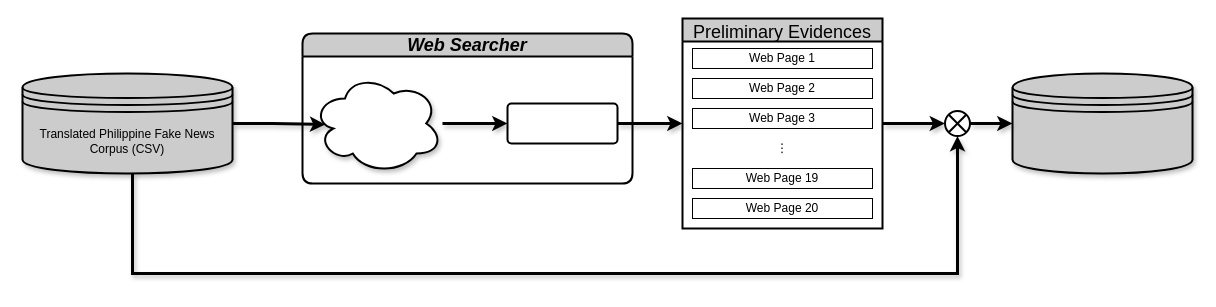
The diagram is 1216 pixels wide and 307 high, and some of its shapes have lost their labels. Each missing label, with the centre of its shape:
"duckduckgo-search API" goes at [378,124].
"Older News Claims Dataset (CSV)" goes at [1103,124].
"URL Filter" goes at [562,123].
